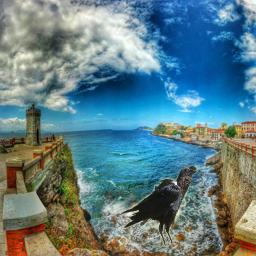Crow: (120, 165, 198, 246)
